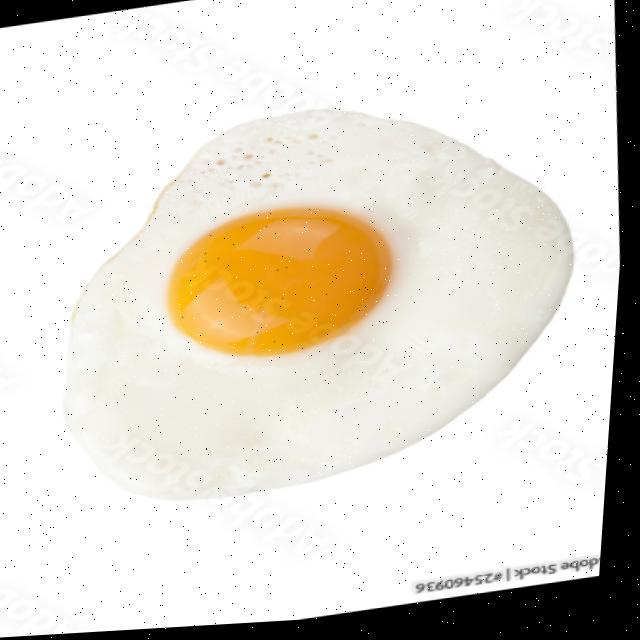Egg: (72, 113, 573, 500)
